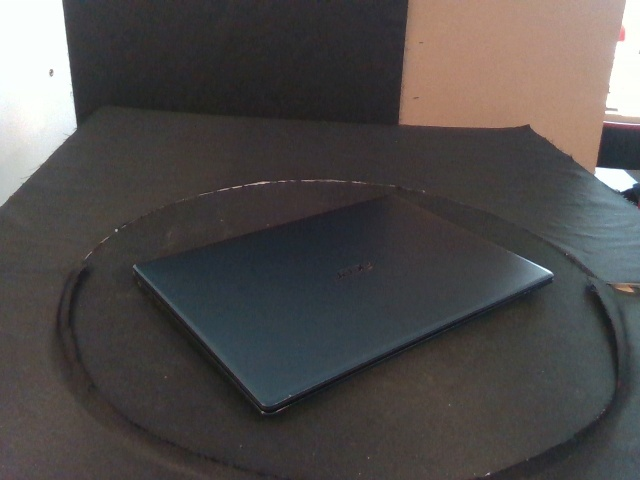laptop: (132, 193, 555, 419)
